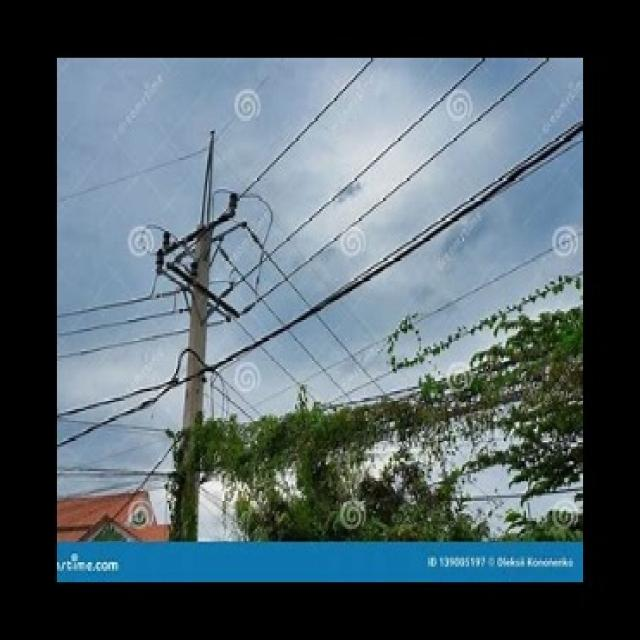critical vegetation: (190, 375, 582, 513)
